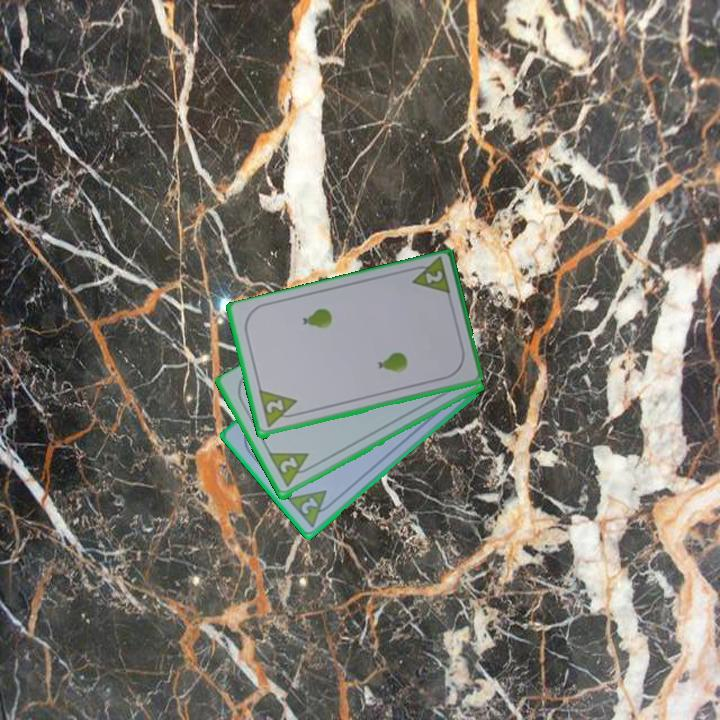2p: (255, 387, 302, 431), (406, 256, 453, 300), (297, 494, 321, 518), (276, 454, 300, 476)
